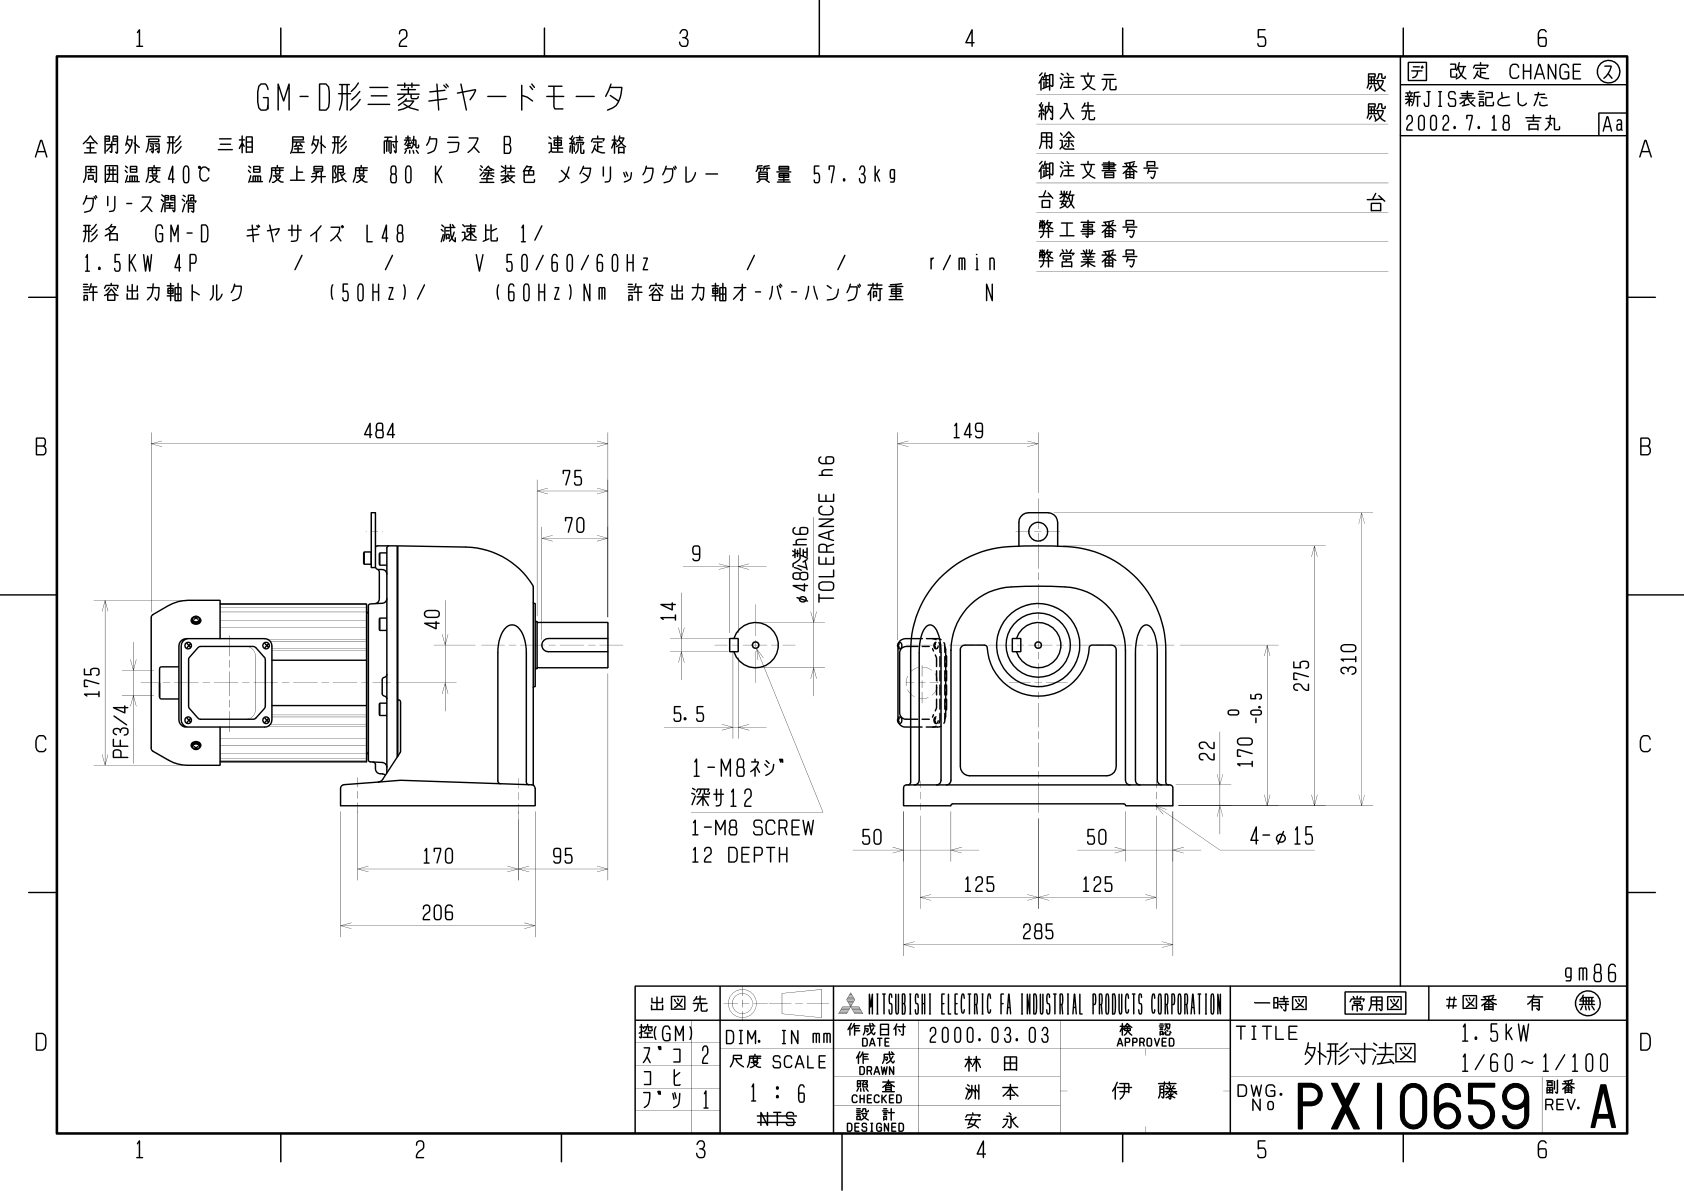GM_D_屋外＿三相_脚: (1, 1, 1678, 1186)
